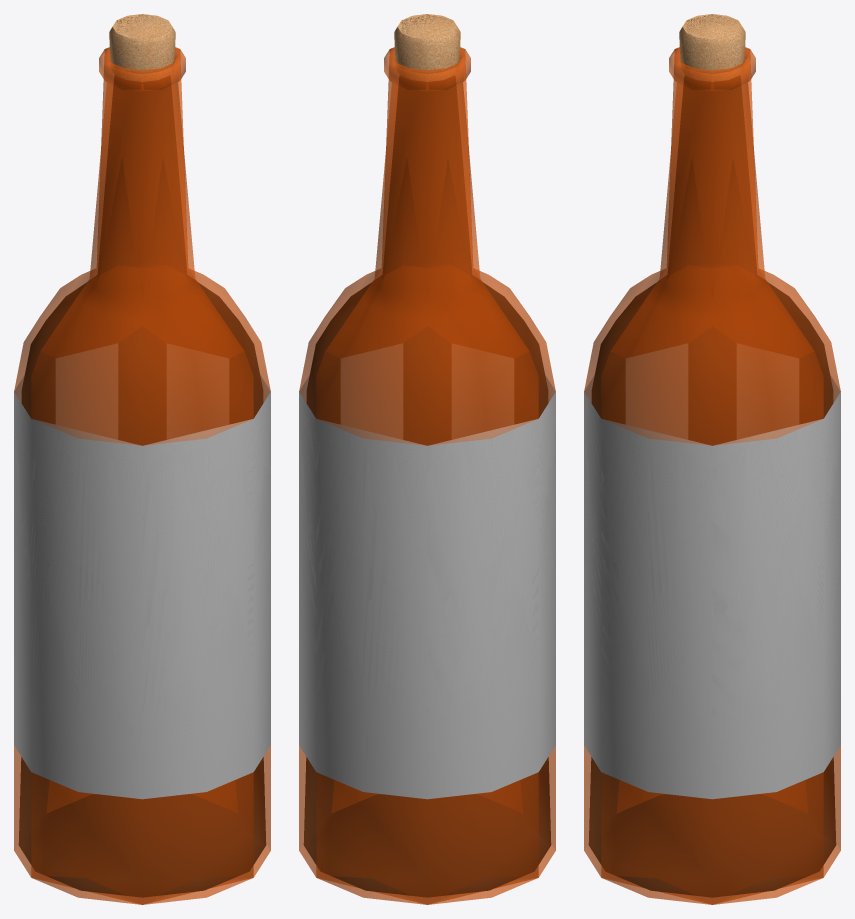
The model's file is BeerBottle 3.fbx.
3 renders of one model, left to right at view 1: azimuth 30°, elevation 25°; view 2: azimuth 150°, elevation 25°; view 3: azimuth 270°, elevation 25°, orthographic.
Visible parts, largest first — view 1: Circle.023, Circle.025, Circle.024; view 2: Circle.023, Circle.025, Circle.024; view 3: Circle.023, Circle.025, Circle.024.
Part boxes in pixels (x1,y1,x2,y2): Circle.023: [14, 14, 270, 904]; Circle.025: [31, 14, 253, 904]; Circle.024: [18, 76, 266, 897]; Circle.023: [299, 14, 555, 904]; Circle.025: [316, 14, 538, 904]; Circle.024: [303, 76, 551, 897]; Circle.023: [584, 14, 840, 904]; Circle.025: [601, 14, 823, 904]; Circle.024: [588, 76, 836, 897].
Size of the model in its own units: 7.85 by 27.78 by 7.85.
